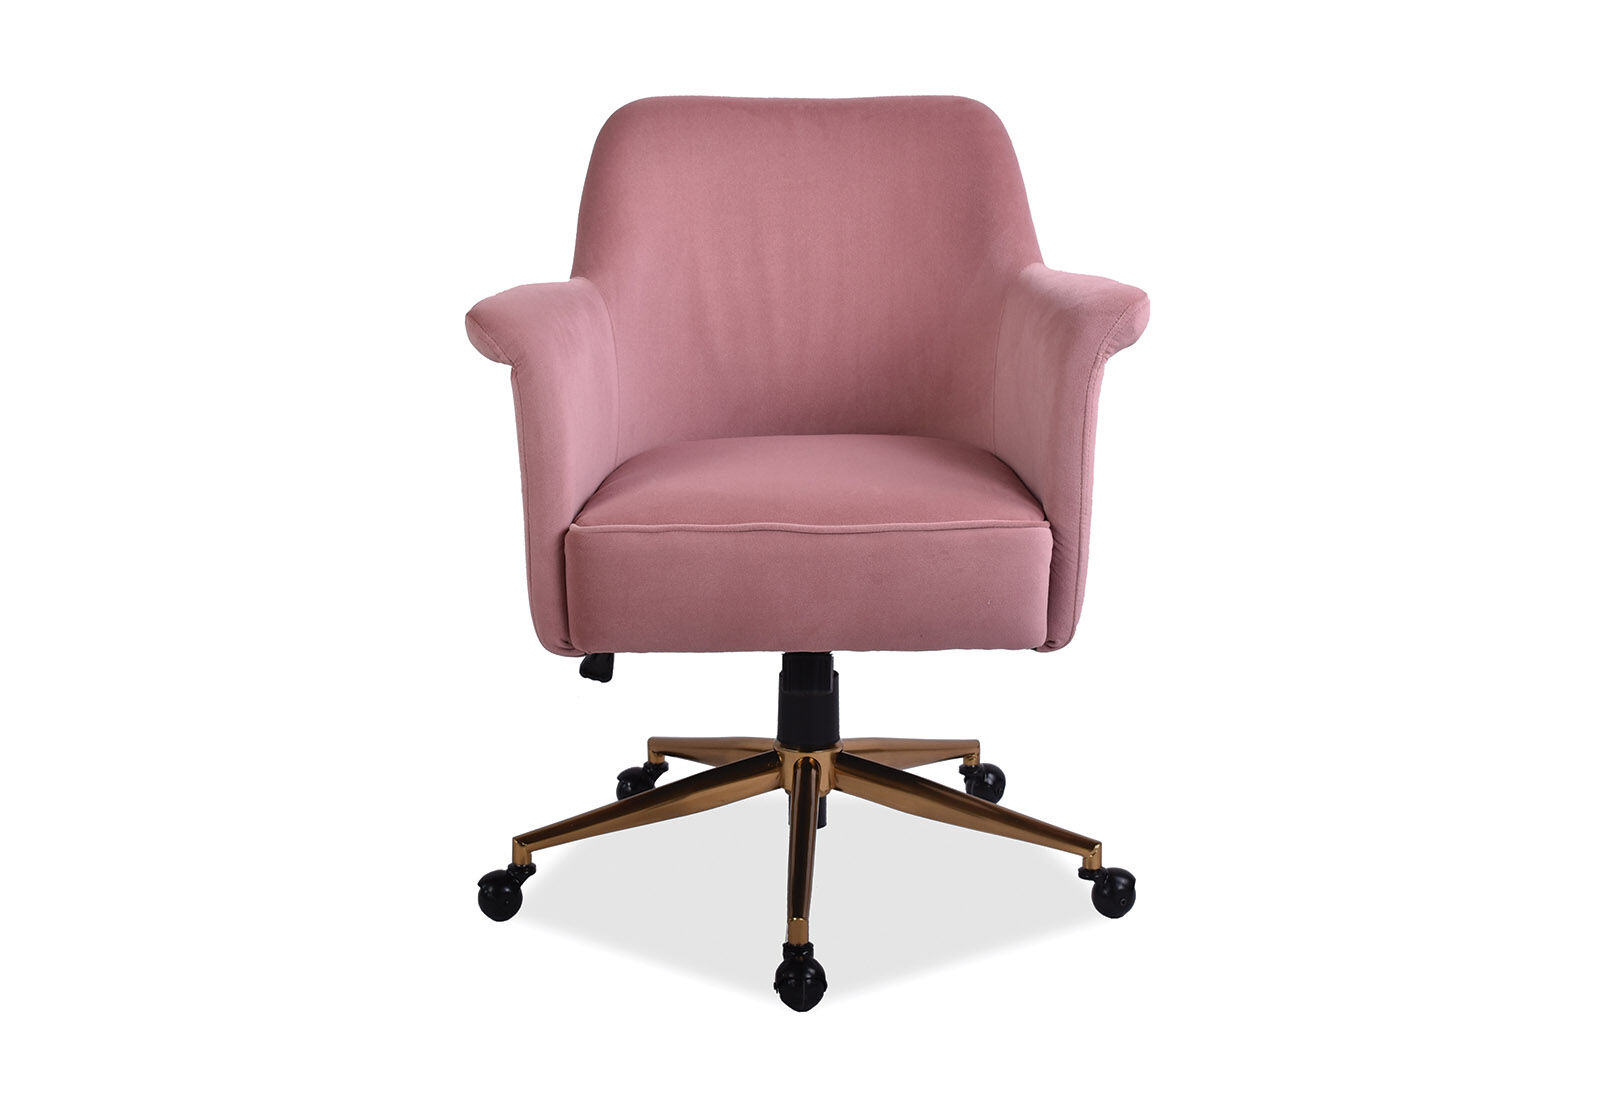kursi: (462, 82, 1152, 1007)
